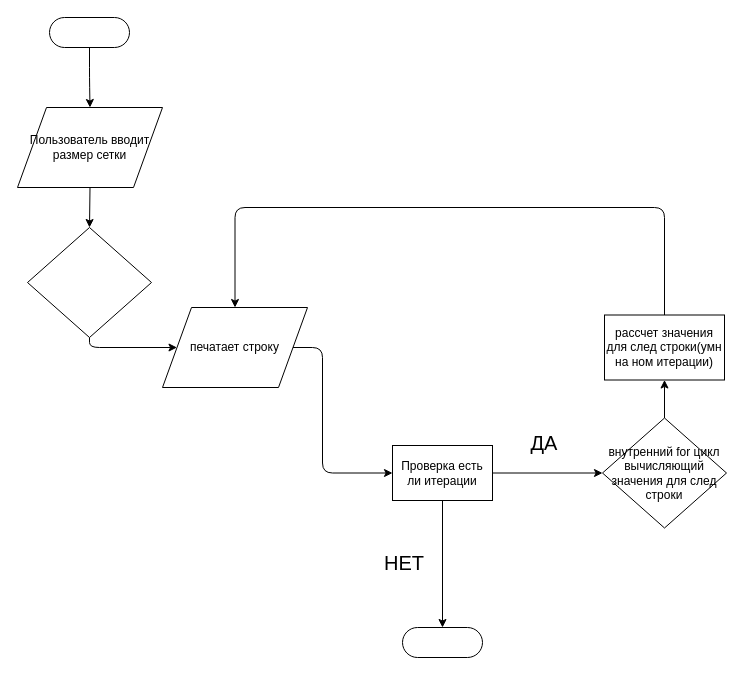
This 744x675 diagram has some shape labels left out. The centre of each missing label's shape, as x and y in pixels:
"внешний for цикл рисующий строки" belongs at pixel 89 282.
"КОНЕЦ" belongs at pixel 442 642.
"Начало" belongs at pixel 89 32.
